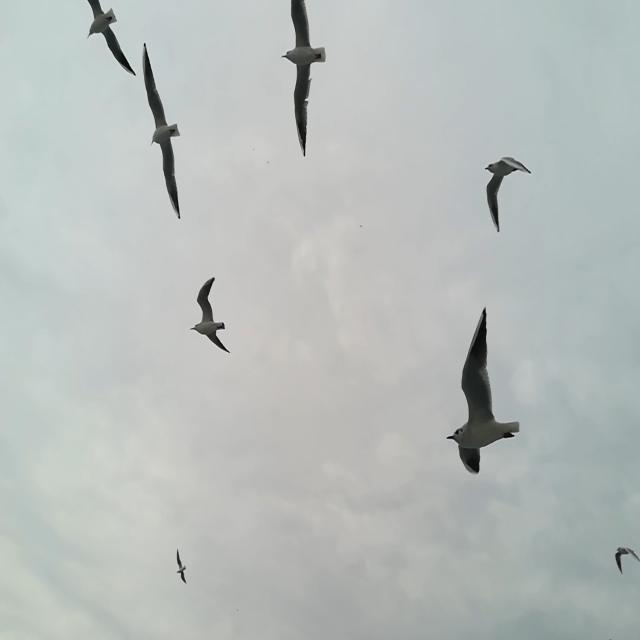bird: (444, 308, 520, 475), (140, 42, 181, 219), (281, 1, 328, 155), (483, 153, 533, 233), (84, 0, 135, 75), (190, 276, 230, 354), (613, 544, 640, 579), (173, 546, 190, 590)
